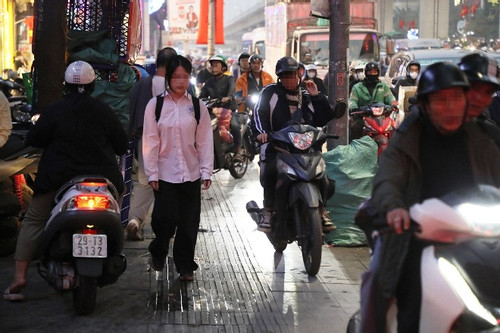bien_so: (70, 231, 109, 260)
